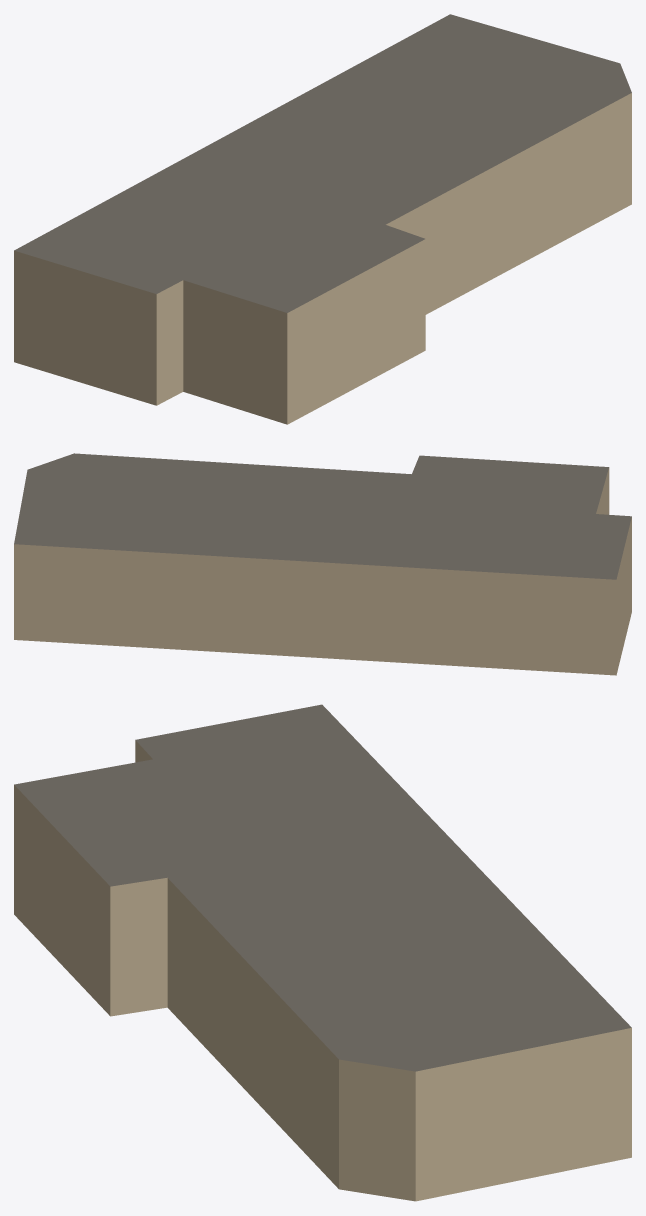
3 renders of one model, top to bottom at view 1: azimuth 30°, elevation 25°; view 2: azimuth 150°, elevation 25°; view 3: azimuth 270°, elevation 25°, orthographic. The views are drawn at different scales.
Visible parts, largest first — view 1: HP-w756801888; view 2: HP-w756801888; view 3: HP-w756801888.
Part boxes in pixels (x1,y1,x2,y2): HP-w756801888: [14, 14, 631, 424]; HP-w756801888: [14, 453, 631, 675]; HP-w756801888: [14, 704, 631, 1201].
Size of the model in its own units: 79.99 by 13.2 by 56.91.
